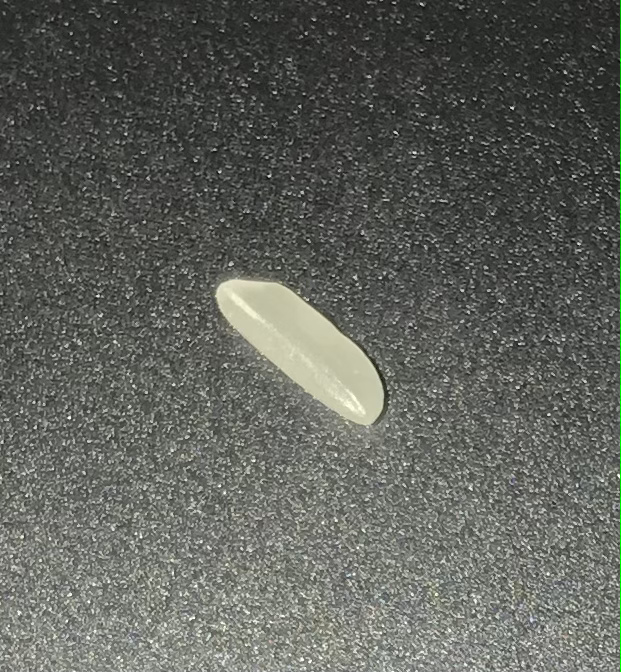Gao Thom My: (189, 258, 409, 439)
